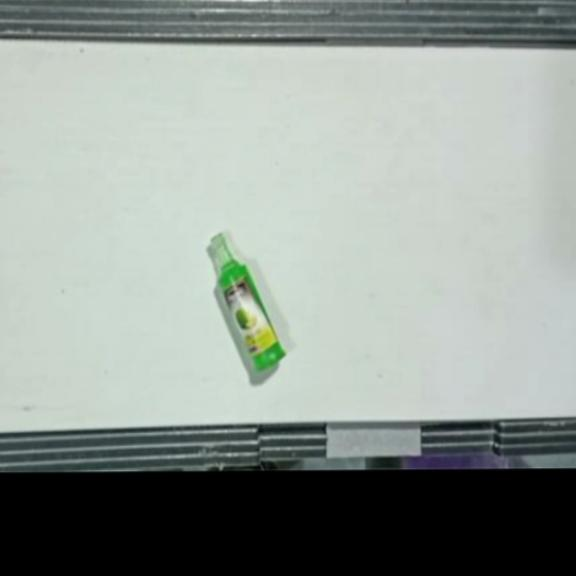Plastik: (208, 231, 286, 373)
